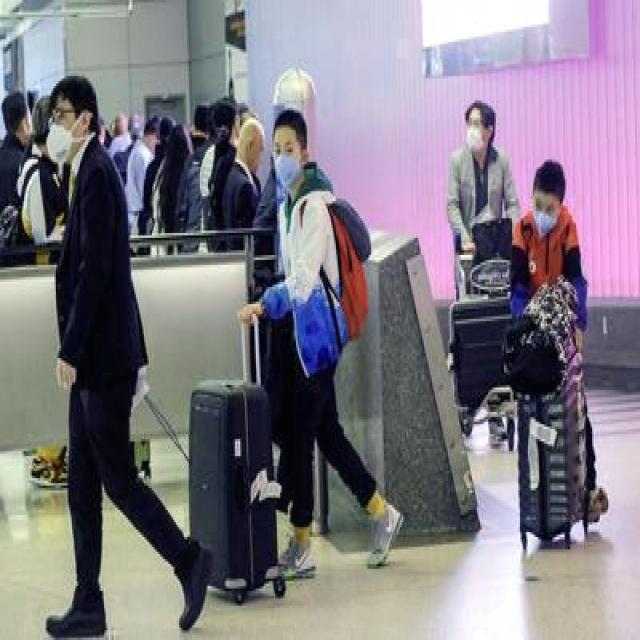face_mask: (46, 100, 76, 162), (274, 135, 302, 186), (532, 196, 562, 240), (467, 113, 488, 152)
hand_noglove: (55, 352, 78, 391), (240, 294, 262, 331)
head_nohelmet: (46, 56, 88, 110), (235, 115, 266, 179), (533, 152, 563, 189), (467, 91, 499, 125), (277, 101, 312, 125)
person: (222, 123, 349, 591), (45, 66, 142, 640), (517, 169, 584, 510), (437, 113, 512, 353)
shoes: (38, 577, 109, 639), (174, 538, 214, 634), (262, 536, 319, 592), (364, 494, 402, 570)
